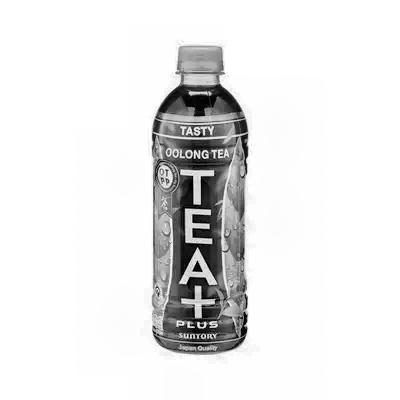waterbottle: (112, 33, 298, 385)
